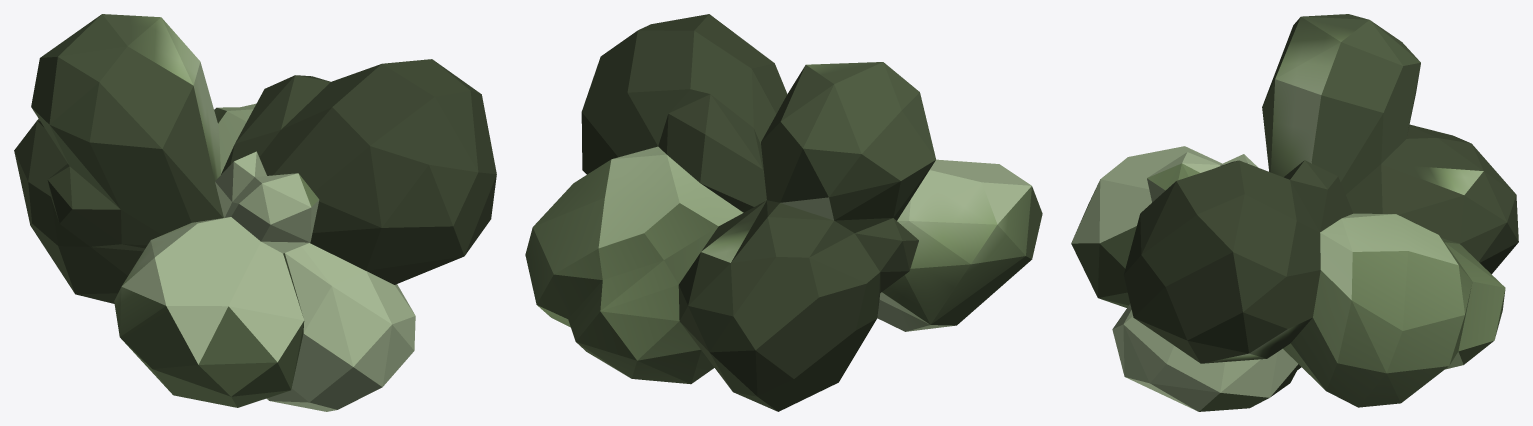
File: EA_Swamp_Fruit_04b.glb
3 renders of one model, left to right at view 1: azimuth 30°, elevation 25°; view 2: azimuth 150°, elevation 25°; view 3: azimuth 270°, elevation 25°, orthographic. The views are drawn at different scales.
Visible parts, largest first — view 1: EA_Swamp_Fruit_04b; view 2: EA_Swamp_Fruit_04b; view 3: EA_Swamp_Fruit_04b.
Part boxes in pixels (bbox=[...]): EA_Swamp_Fruit_04b: bbox=[14, 14, 496, 411]; EA_Swamp_Fruit_04b: bbox=[525, 14, 1042, 411]; EA_Swamp_Fruit_04b: bbox=[1071, 14, 1518, 411].
Size of the model in its own units: 0.8419 by 0.7073 by 0.8706.
Materials: 1 (1 with a texture image).
